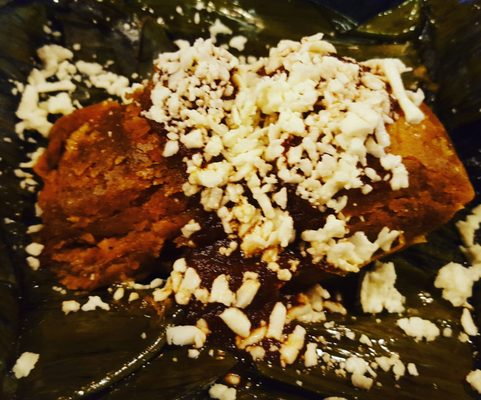sushi: (18, 12, 475, 386)
